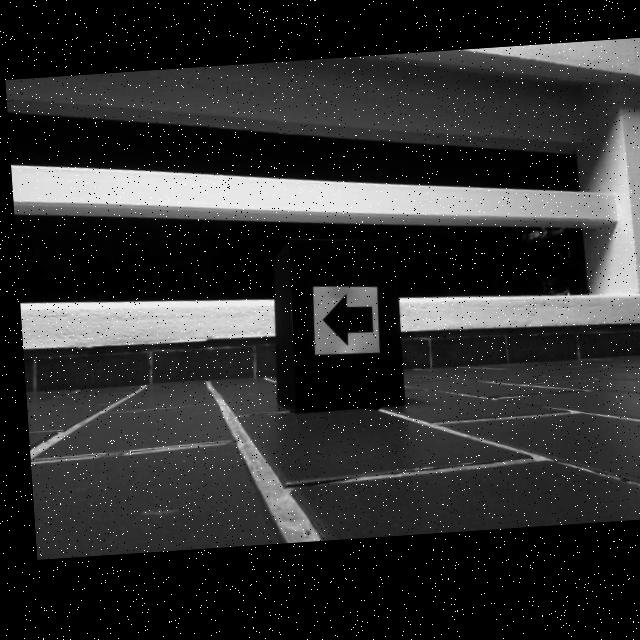LEFT: (317, 298, 369, 351)
